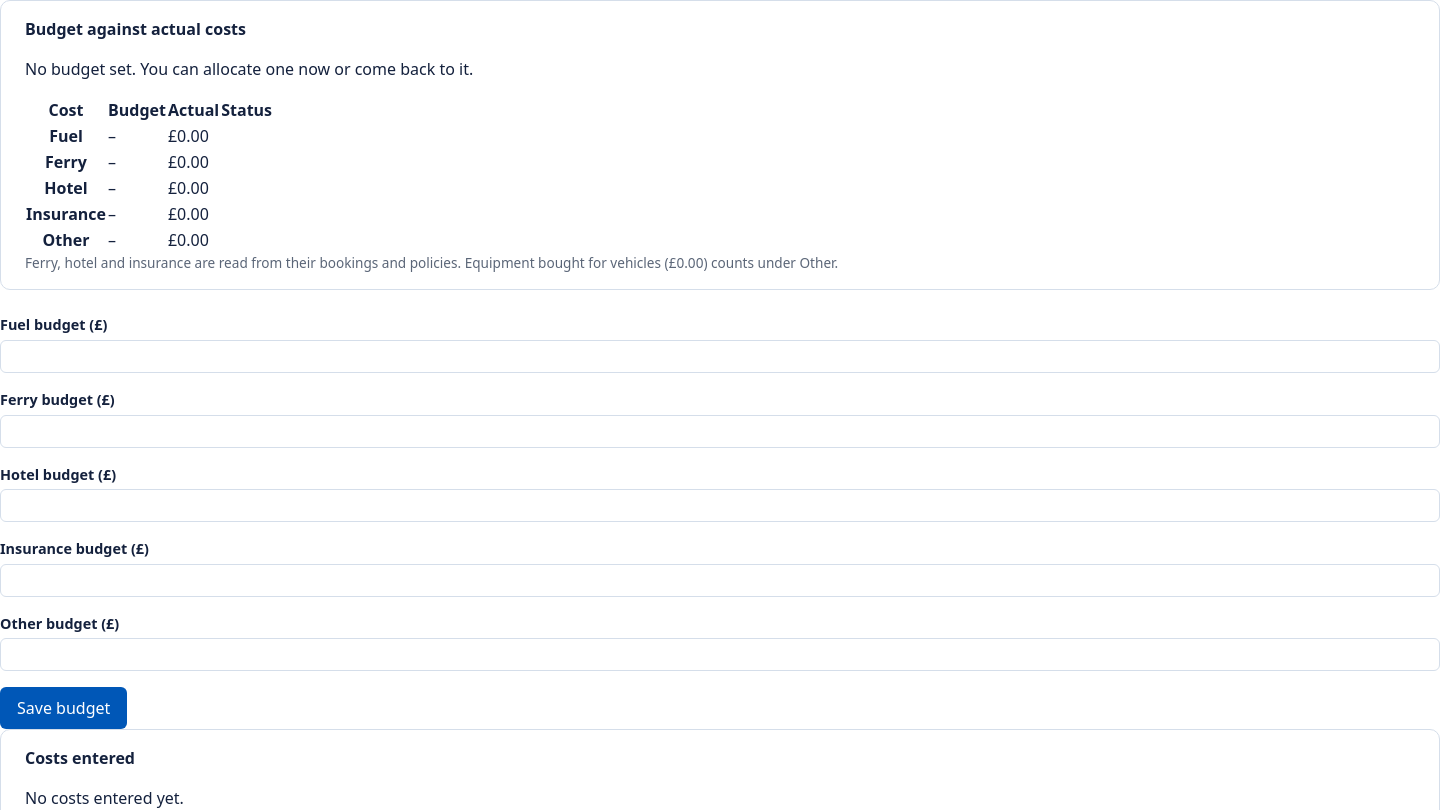
Scenario: fuel costs over the line show it as over budget
This screenshot has width=1440, height=810.
Type "1000" into the field labelled "Fuel budget (£)".
click(720, 356); type("1000")  # box [0, 340, 1439, 373]
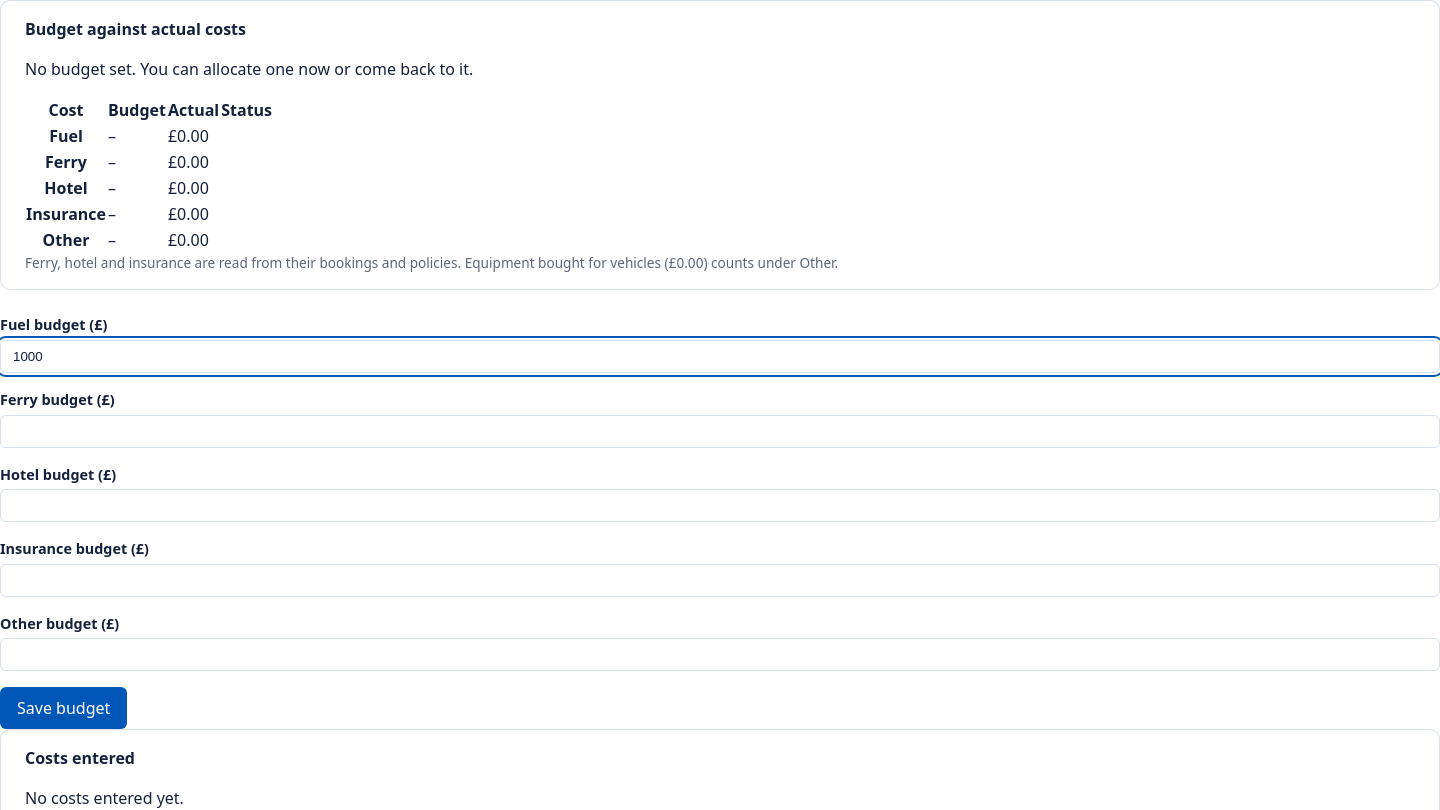
Click the button "Save budget".
click(64, 708)  # box [0, 687, 127, 729]
(page scrolled)
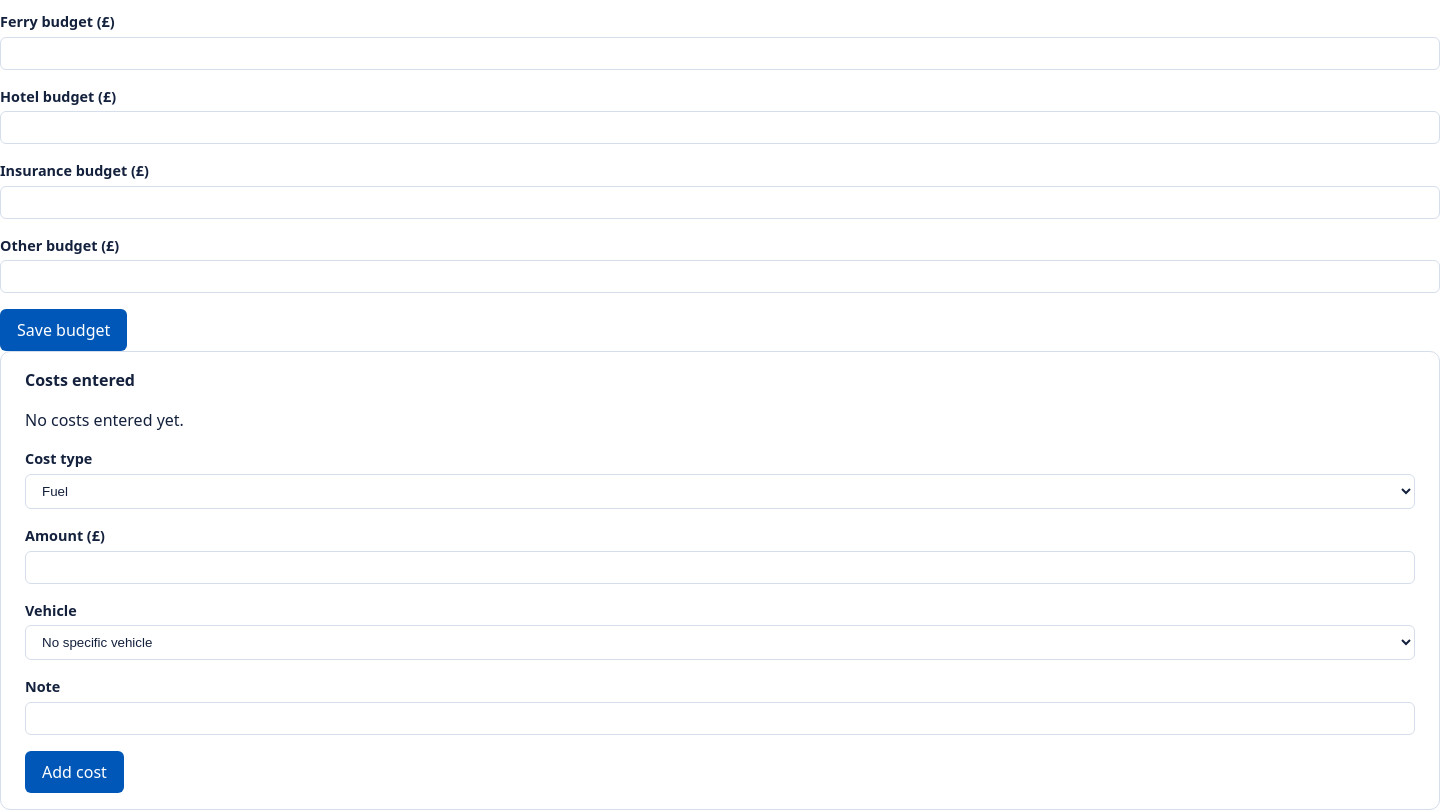
Type "1100" into the field labelled "Amount (£)".
click(720, 567); type("1100")  # box [25, 551, 1415, 584]
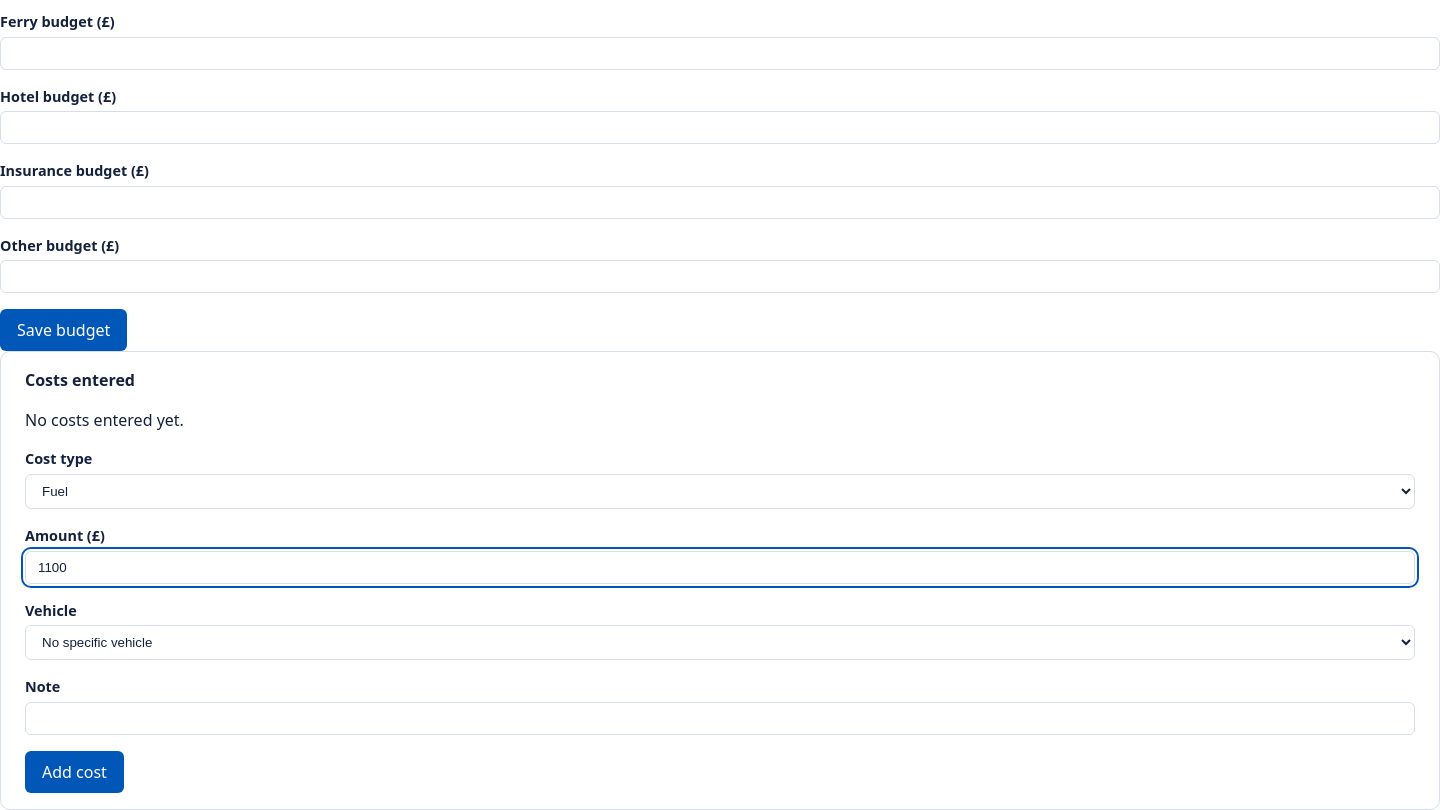
Click the button "Add cost".
click(74, 772)  # box [25, 751, 124, 793]
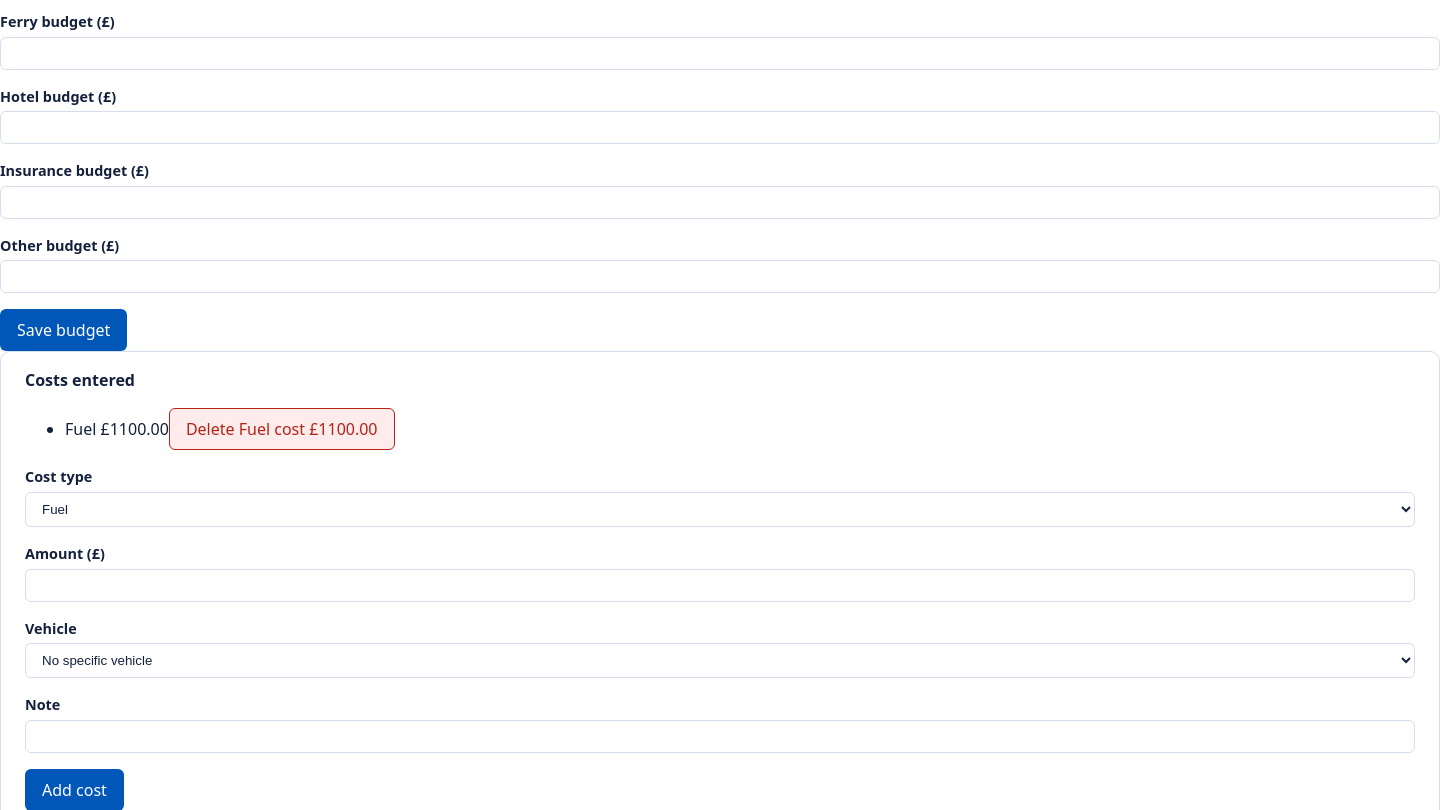
Result: the list item "Fuel £1100.00 Delete Fuel cost £1100.00" is shown at [65, 408, 394, 450]
